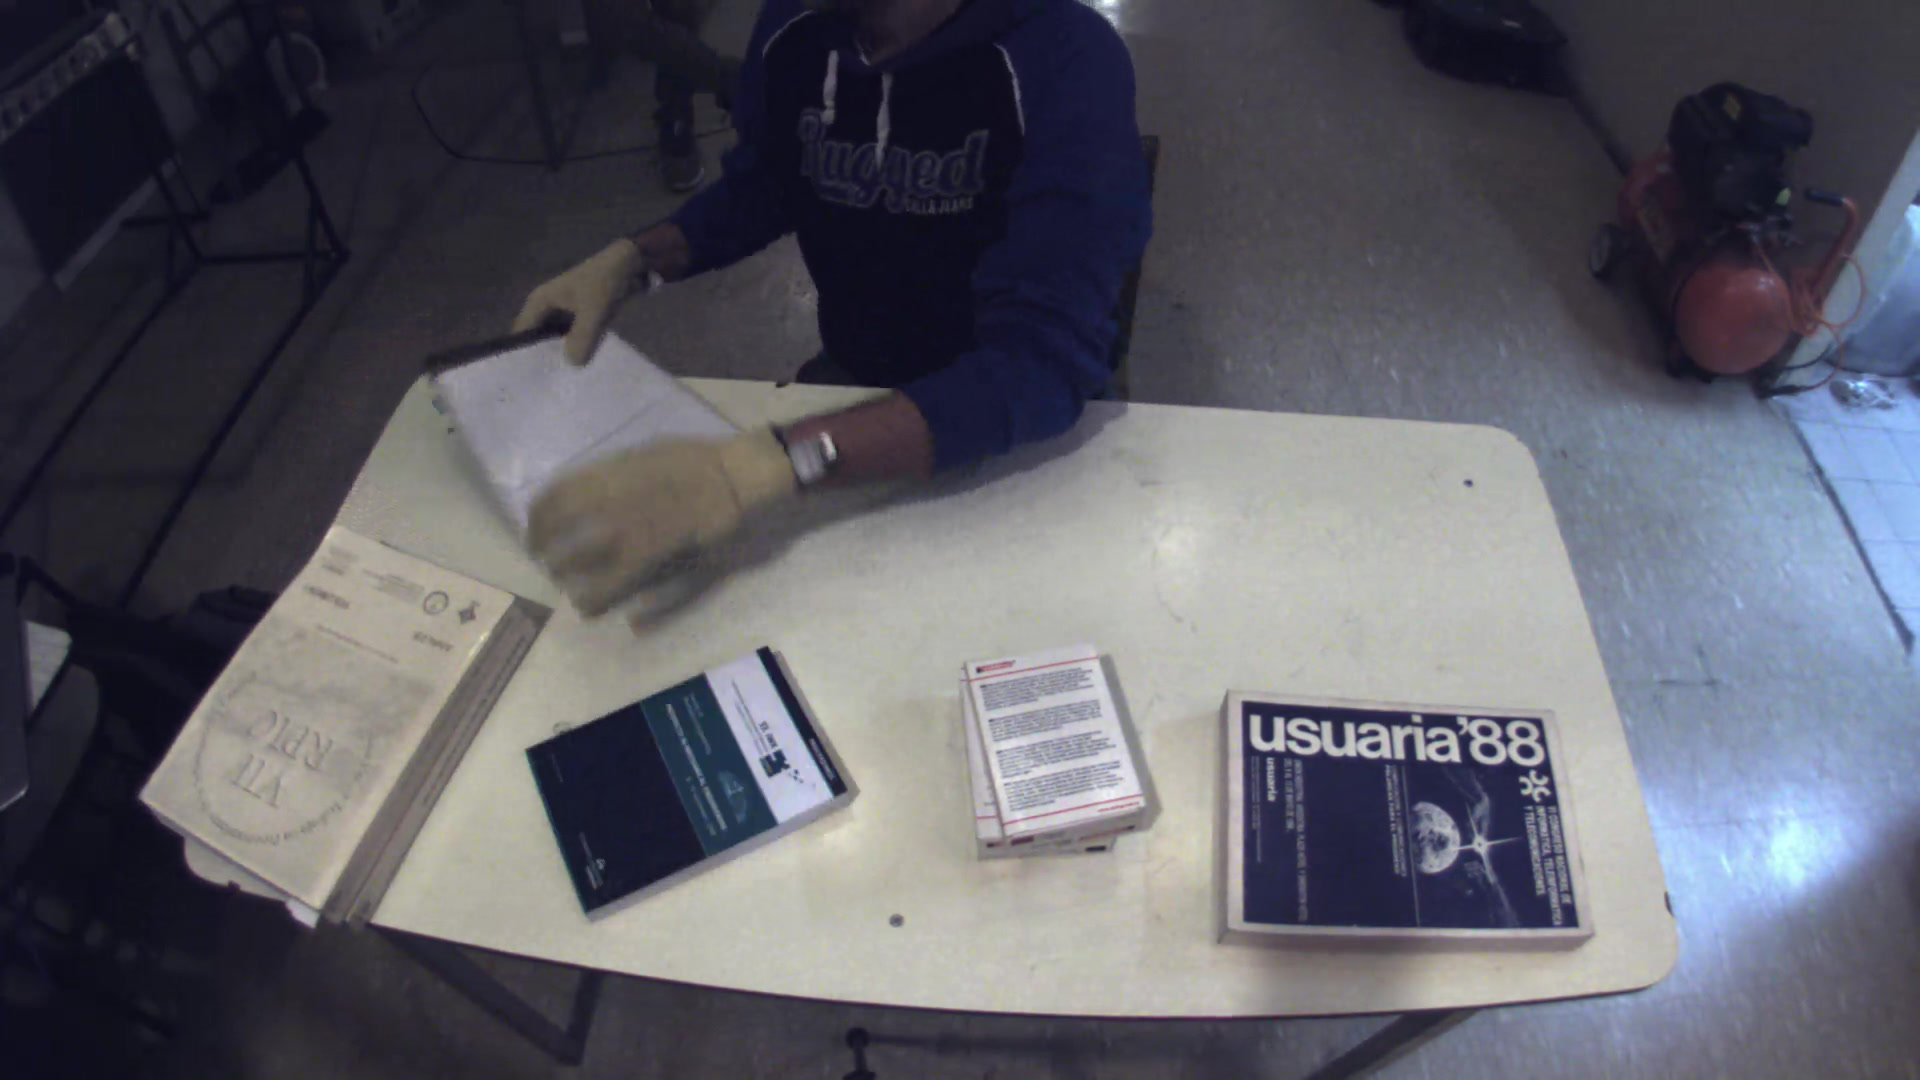hand: (514, 419, 847, 618), (508, 231, 649, 365)
